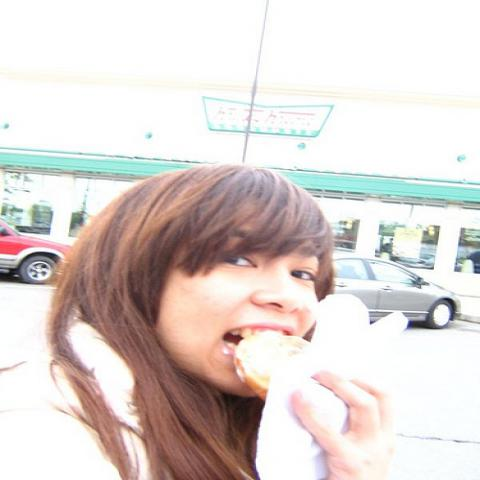car: (333, 254, 462, 328), (1, 219, 75, 287)
